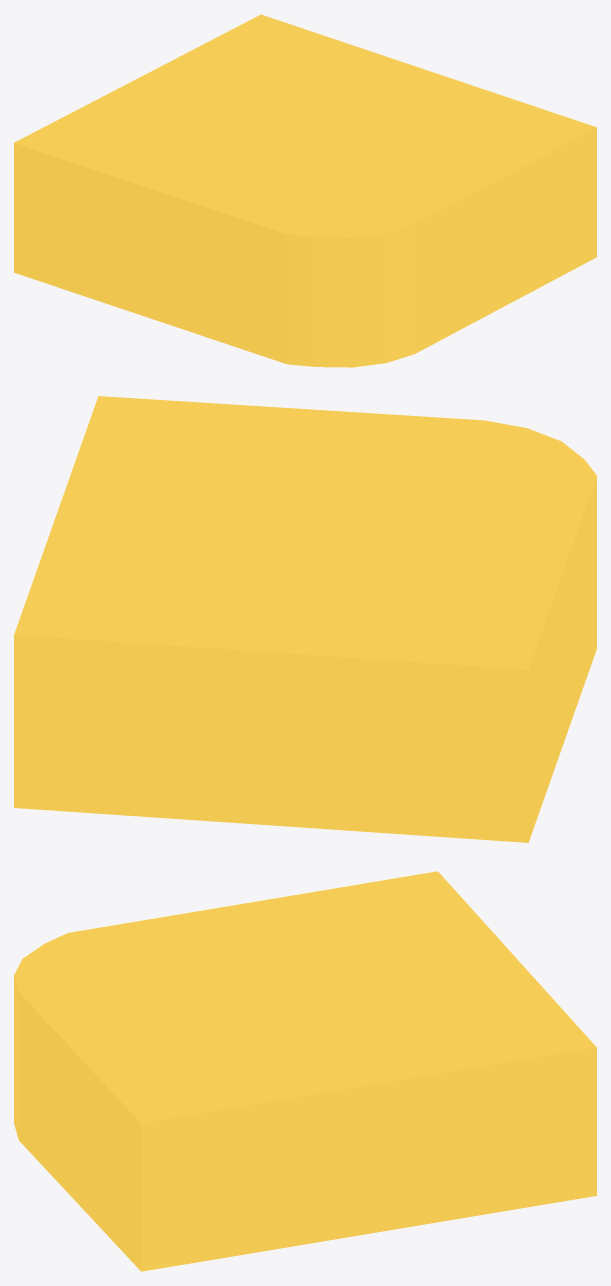
File: ONCE UPON A TIME IN HOLLYWOOD.fbx
3 views of the same model, one above another, from view 1: azimuth 30°, elevation 25°; view 2: azimuth 150°, elevation 25°; view 3: azimuth 270°, elevation 25° (orthographic). The views are drawn at different scales.
Visible parts, largest first — view 1: ROUTE; view 2: ROUTE; view 3: ROUTE.
Part boxes in pixels (<box>): ROUTE: <box>14,14,596,367</box>; ROUTE: <box>14,396,596,842</box>; ROUTE: <box>14,871,596,1271</box>.
Size of the model in its own units: 18.99 by 18.55 by 5.2.
